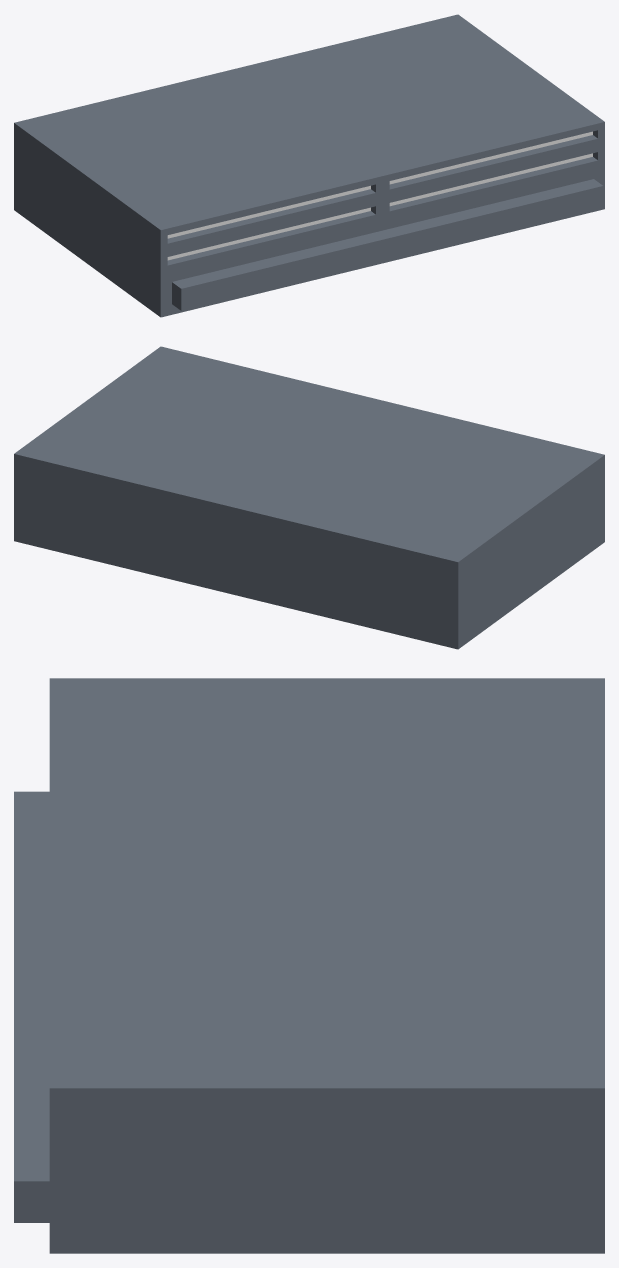
3 views of the same model, one above another, from view 1: azimuth 30°, elevation 25°; view 2: azimuth 150°, elevation 25°; view 3: azimuth 270°, elevation 25° (orthographic). The views are drawn at different scales.
Visible parts, largest first — view 1: file box 2; view 2: file box 2; view 3: file box 2.
Boxes of the visible parts, left/top/right/bottom form: file box 2: left=14, top=14, right=604, bottom=317; file box 2: left=14, top=346, right=604, bottom=649; file box 2: left=14, top=678, right=604, bottom=1253.
Size of the model in its own units: 166 by 31.11 by 101.
